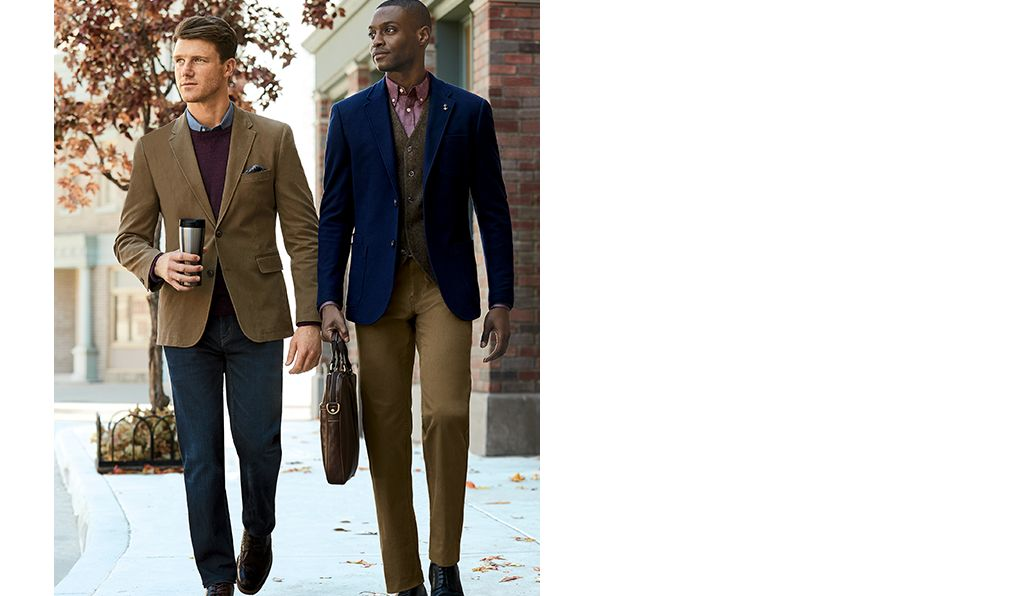NOTSAFE: (335, 1, 491, 338), (154, 14, 293, 361)
